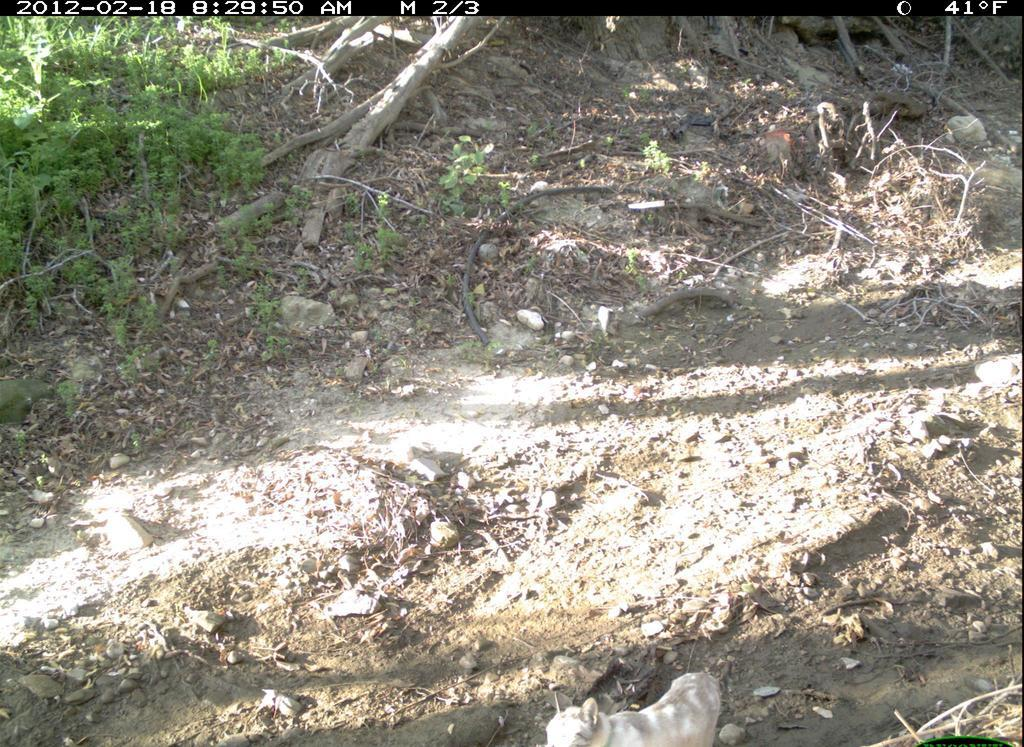cat: (546, 671, 723, 747)
